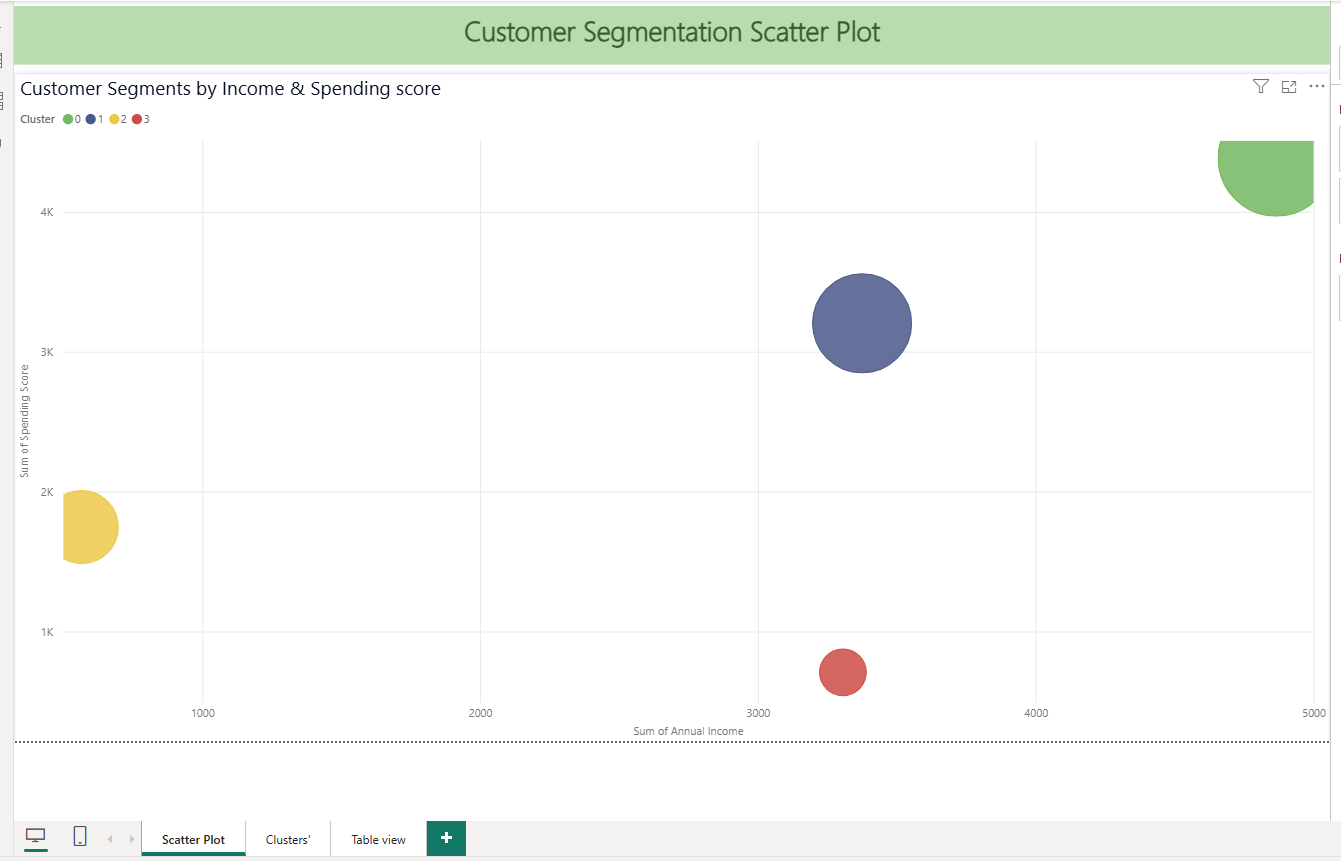

Layout of this report page (visuals, bound fields, positions):
{"tool":"powerbi","page":{"name":"Scatter Plot","canvas":[1280,720],"ordinal":0},"visuals":[{"type":"scatterChart","title":"Customer Segments by Income & Spending score","fields":{"X":["Sum(segmented_customers.Annual Income)"],"Y":["Sum(segmented_customers.Spending Score)"],"Series":["segmented_customers.Cluster"],"Size":["Sum(segmented_customers.Spending Score)"]},"box":[0,69.6,1280,650.9],"z":0},{"type":"textbox","box":[0,5.3,1280.4,56.7],"z":4000}]}

Visuals, with their boxes on the page's 1280x720 design canvas (x1, y1, x2, y2). These are canvas units, not pixel positions in the 1341x861 screenshot, which may show the page scaled, cropped or inside an application window:
"Customer Segments by Income & Spending score" scatterChart: x1=0 y1=70 x2=1280 y2=720
textbox: x1=0 y1=5 x2=1280 y2=62
